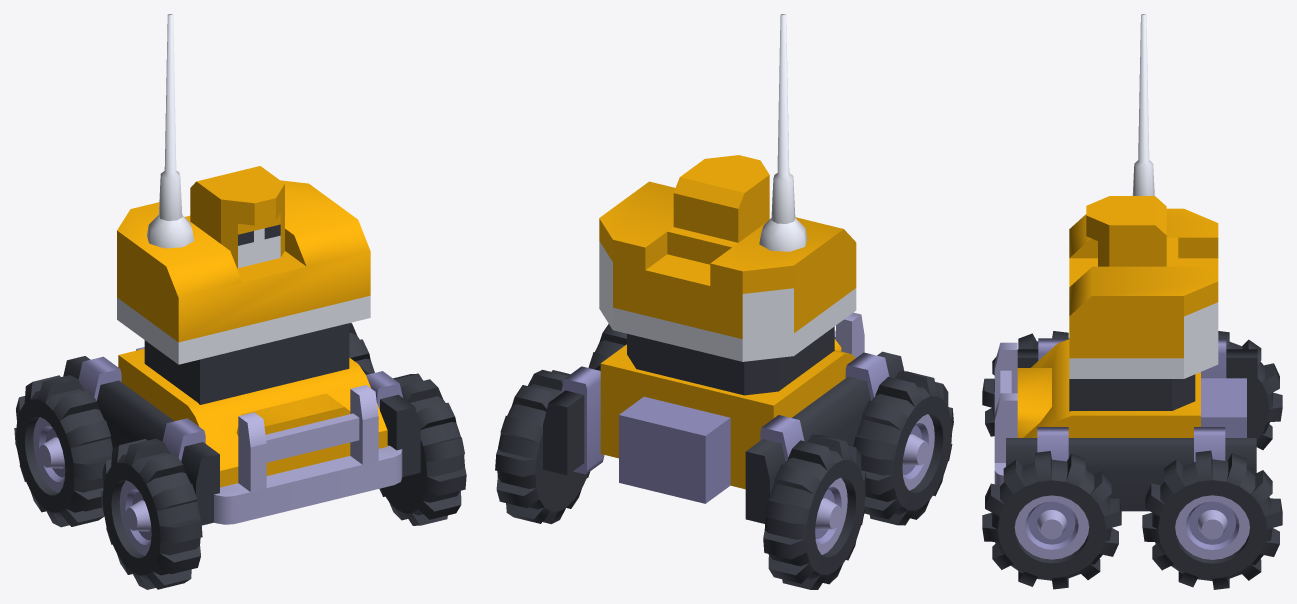
Rendered from SM_pawn_mech.fbx.
3 views of the same model, side by side, from view 1: azimuth 30°, elevation 25°; view 2: azimuth 150°, elevation 25°; view 3: azimuth 270°, elevation 25° (orthographic). The views are drawn at different scales.
Visible parts, largest first — view 1: chest_body, wheel_ridges (×4), bumper_large, tank_turretBlock, detail_luggage (×2), head_classic, detail_antenna; view 2: chest_body, wheel_ridges (×4), tank_turretBlock, detail_luggage (×2), head_classic, detail_antenna, bumper_large; view 3: wheel_ridges (×4), chest_body, detail_luggage (×2), tank_turretBlock, head_classic, bumper_large, detail_antenna.
Boxes of the visible parts, x1=… form: chest_body: x1=117, y1=180, x2=370, y2=404; wheel_ridges (×4): x1=14, y1=323, x2=466, y2=589; bumper_large: x1=214, y1=385, x2=402, y2=524; tank_turretBlock: x1=118, y1=347, x2=387, y2=487; detail_luggage (×2): x1=63, y1=356, x2=420, y2=525; head_classic: x1=185, y1=166, x2=284, y2=268; detail_antenna: x1=146, y1=14, x2=194, y2=248; chest_body: x1=599, y1=181, x2=856, y2=395; wheel_ridges (×4): x1=495, y1=324, x2=953, y2=589; tank_turretBlock: x1=600, y1=339, x2=855, y2=503; detail_luggage (×2): x1=543, y1=351, x2=904, y2=523; head_classic: x1=667, y1=155, x2=769, y2=264; detail_antenna: x1=759, y1=14, x2=807, y2=251; bumper_large: x1=834, y1=312, x2=864, y2=357; wheel_ridges (×4): x1=982, y1=331, x2=1282, y2=589; chest_body: x1=1069, y1=208, x2=1218, y2=411; detail_luggage (×2): x1=1006, y1=338, x2=1257, y2=511; tank_turretBlock: x1=1017, y1=339, x2=1246, y2=437; head_classic: x1=1086, y1=196, x2=1178, y2=266; bumper_large: x1=994, y1=342, x2=1017, y2=485; detail_antenna: x1=1132, y1=14, x2=1154, y2=195.
Size of the model in its own units: 14.3 by 23.06 by 13.1.
